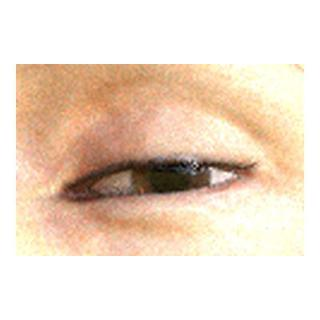pupil: (150, 159, 190, 199)
